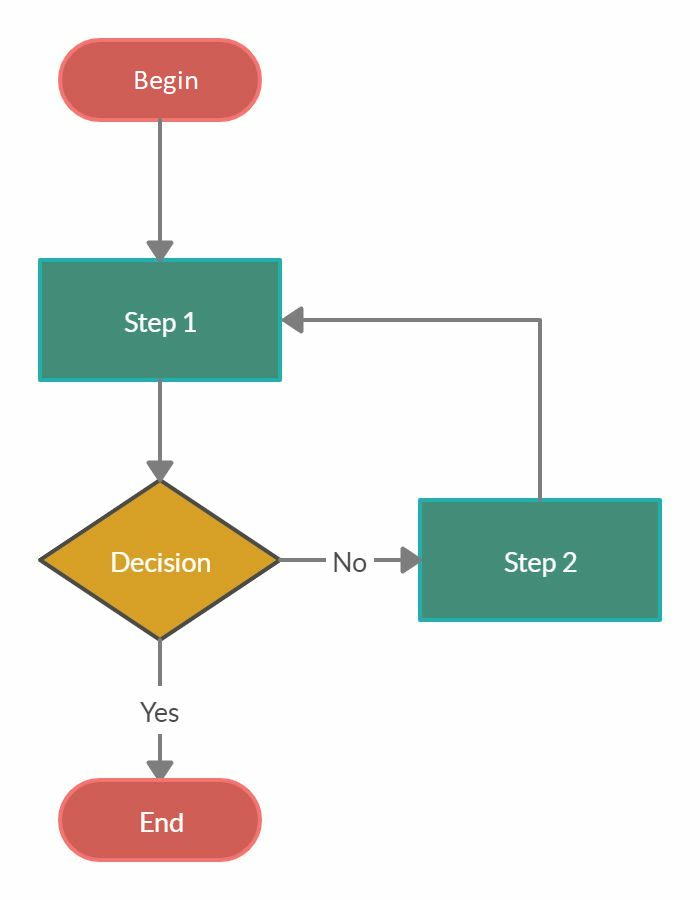arrow: (281, 305, 546, 502), (276, 544, 422, 579), (144, 118, 175, 259), (146, 637, 174, 777), (146, 380, 174, 483)
decision: (39, 480, 279, 639)
process: (412, 495, 665, 625), (33, 257, 286, 384)
terminator: (57, 35, 264, 125), (56, 776, 263, 859)
text: (109, 547, 213, 580), (120, 310, 204, 337), (502, 548, 579, 577), (130, 69, 201, 94), (137, 806, 186, 836), (137, 698, 183, 724), (330, 550, 368, 576)
